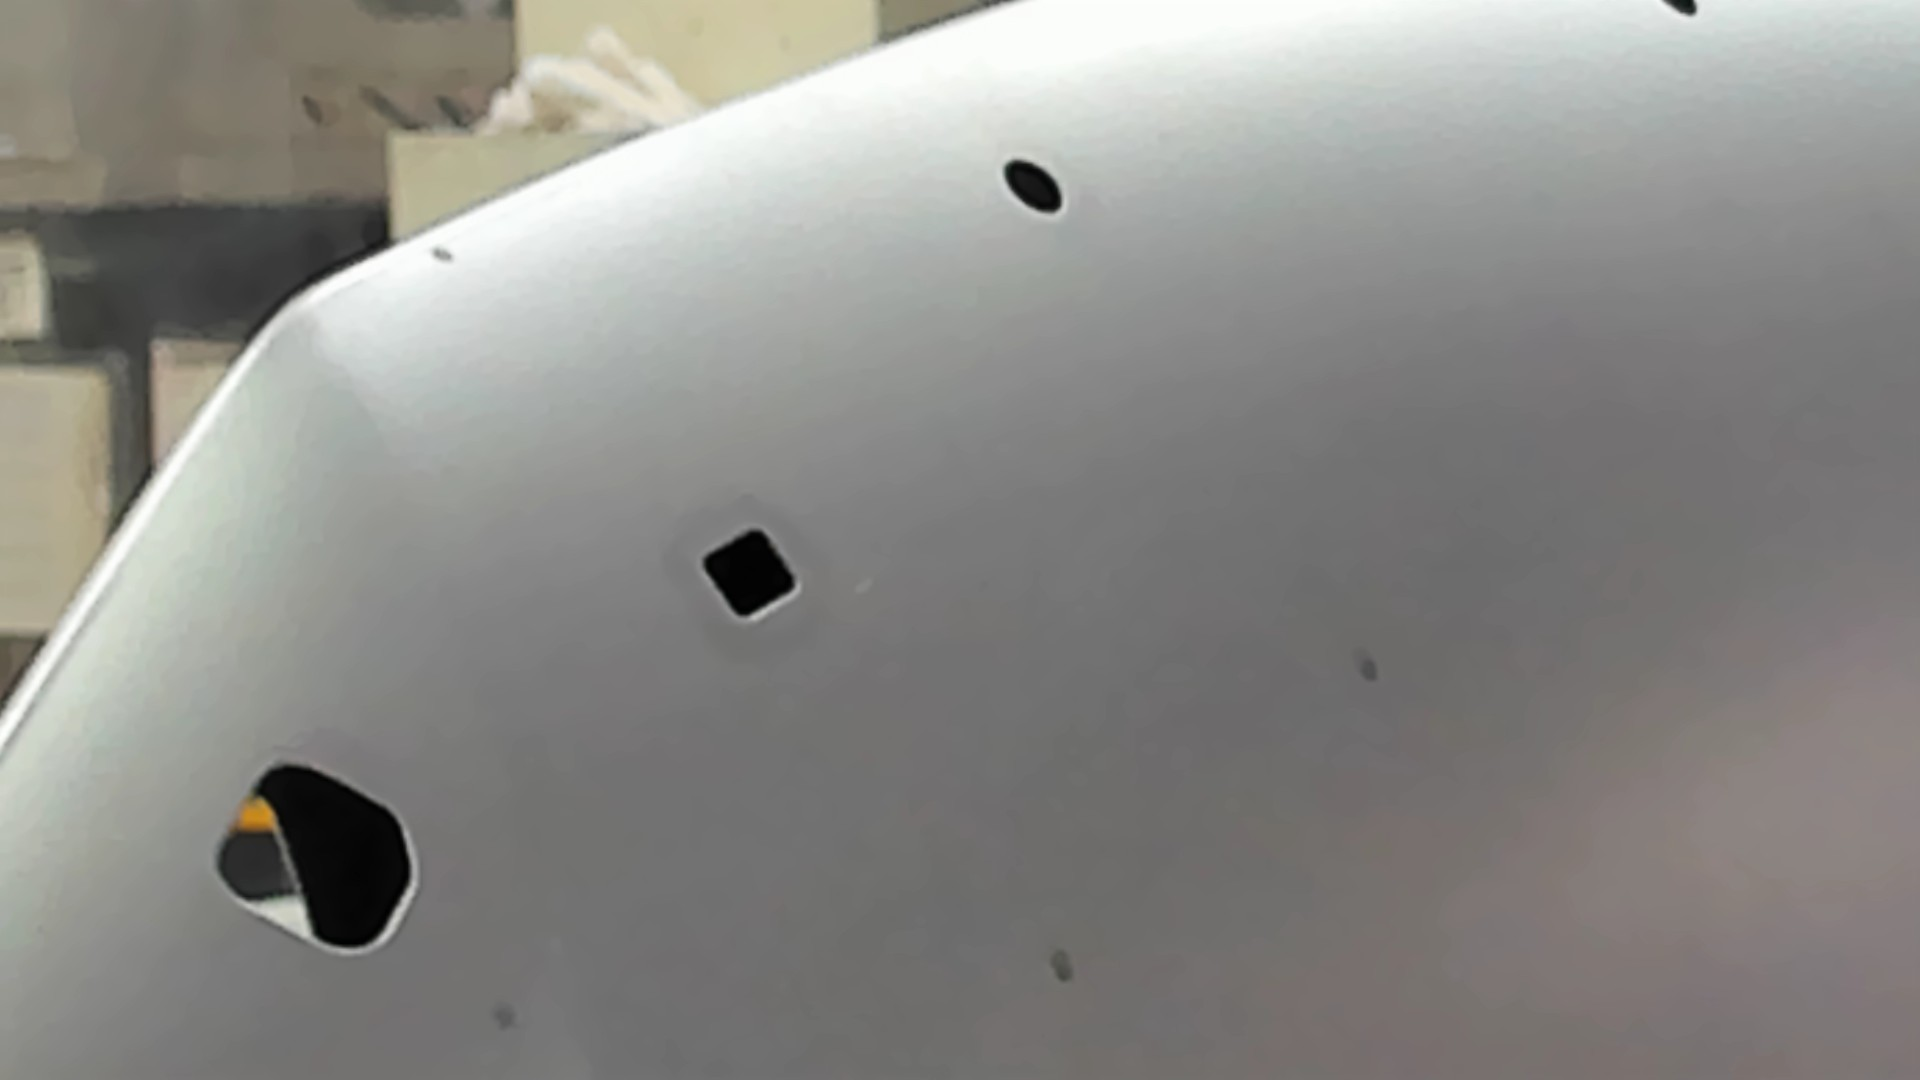chico: (1000, 152, 1073, 219), (1660, 1, 1704, 22)
grande: (204, 750, 418, 969)
mediano: (695, 516, 804, 626)
